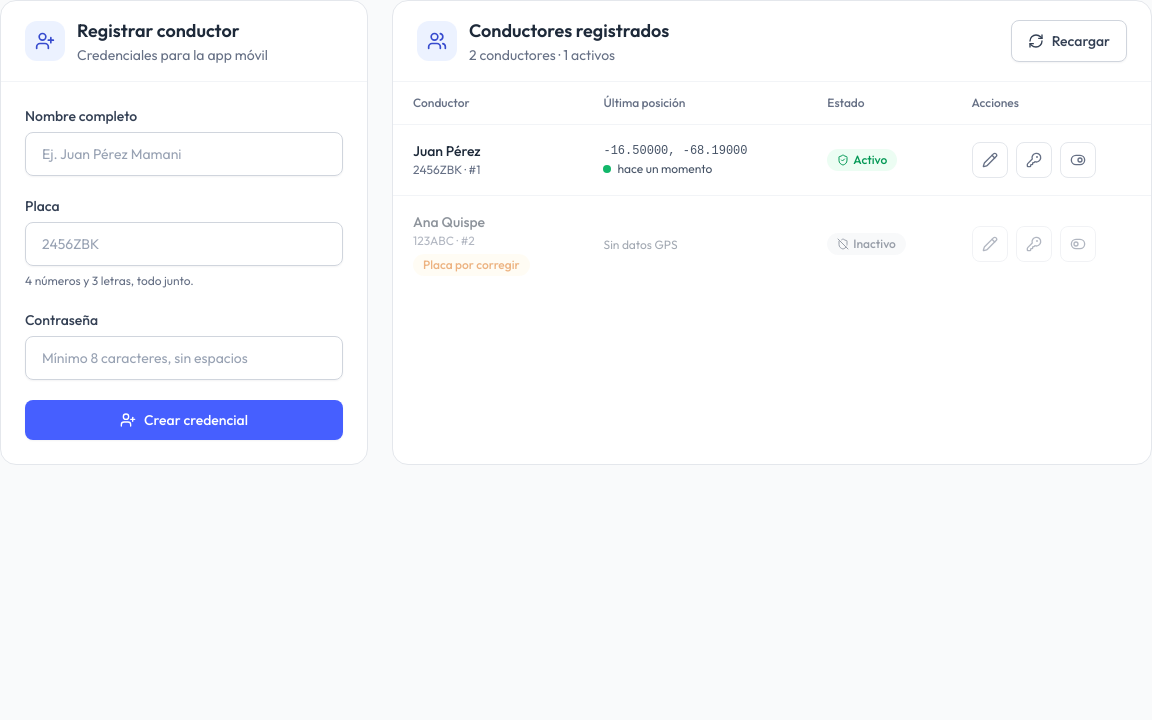
Test case: Flota › editar un conductor envía el nombre y la placa normalizada
This screenshot has width=1152, height=720.
Click the button named "Editar a Ana Quispe". click: (990, 244)
box: [972, 226, 1008, 262]
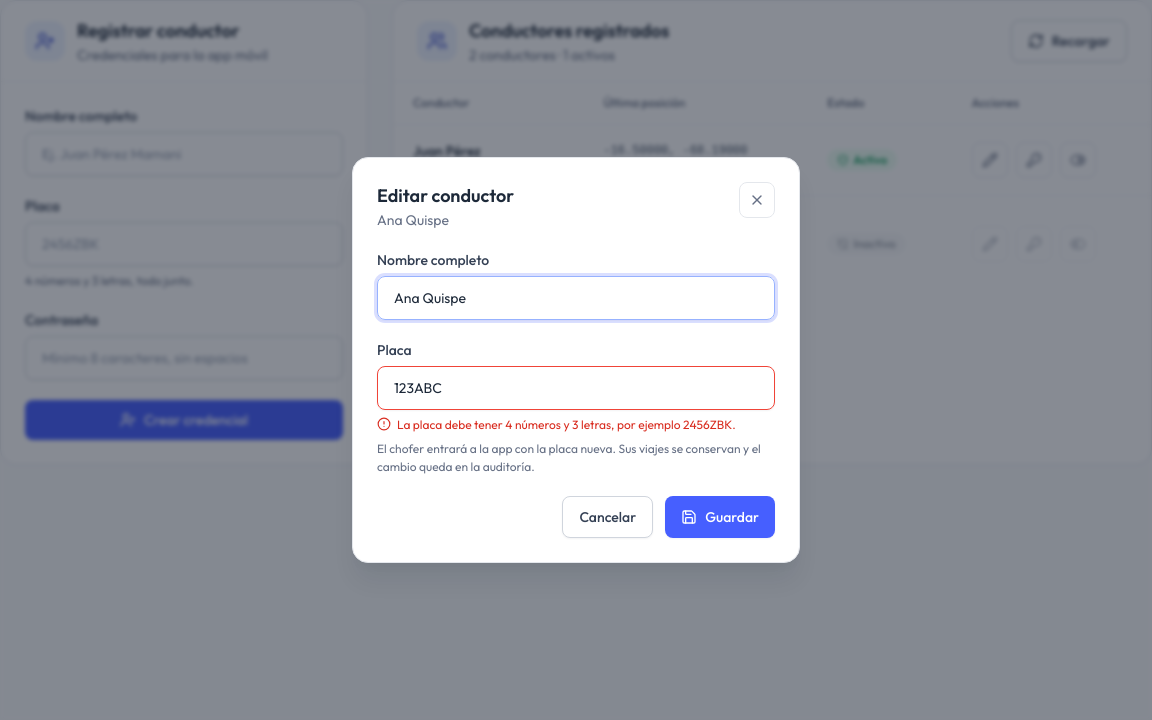
Clear the field labelled "Placa". click: (576, 388)
box: [377, 366, 775, 410]
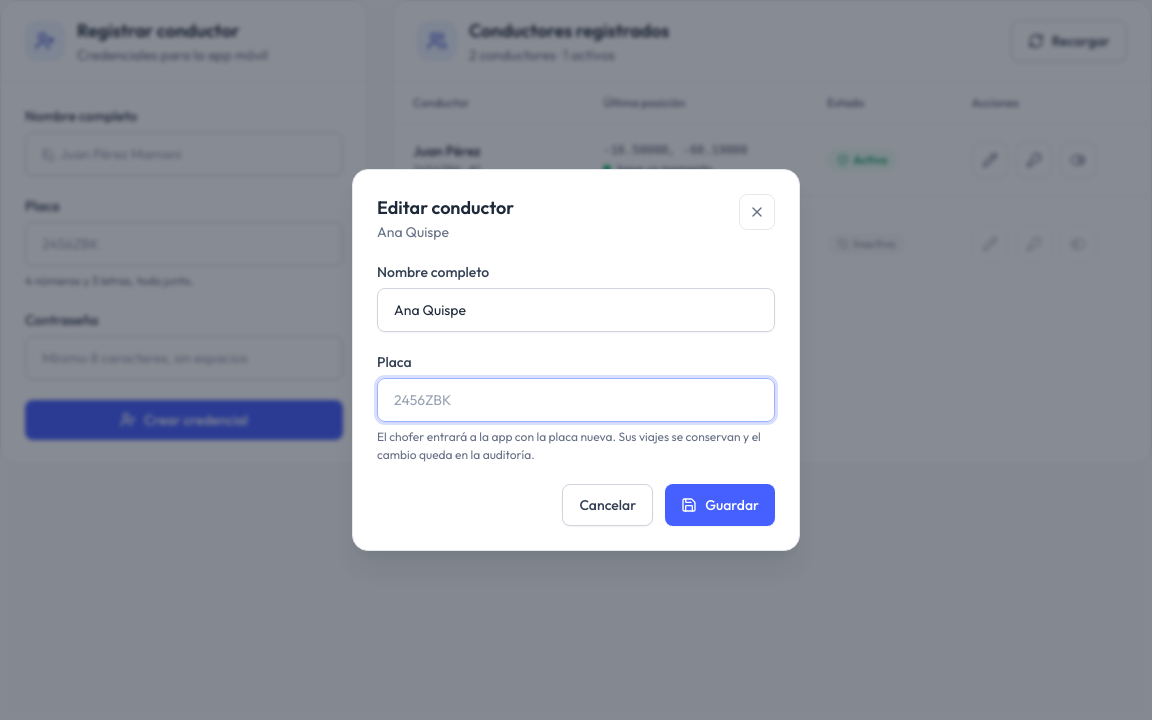
Type "1234 abc" into the field labelled "Placa". click: (576, 400)
box: [377, 378, 775, 422]
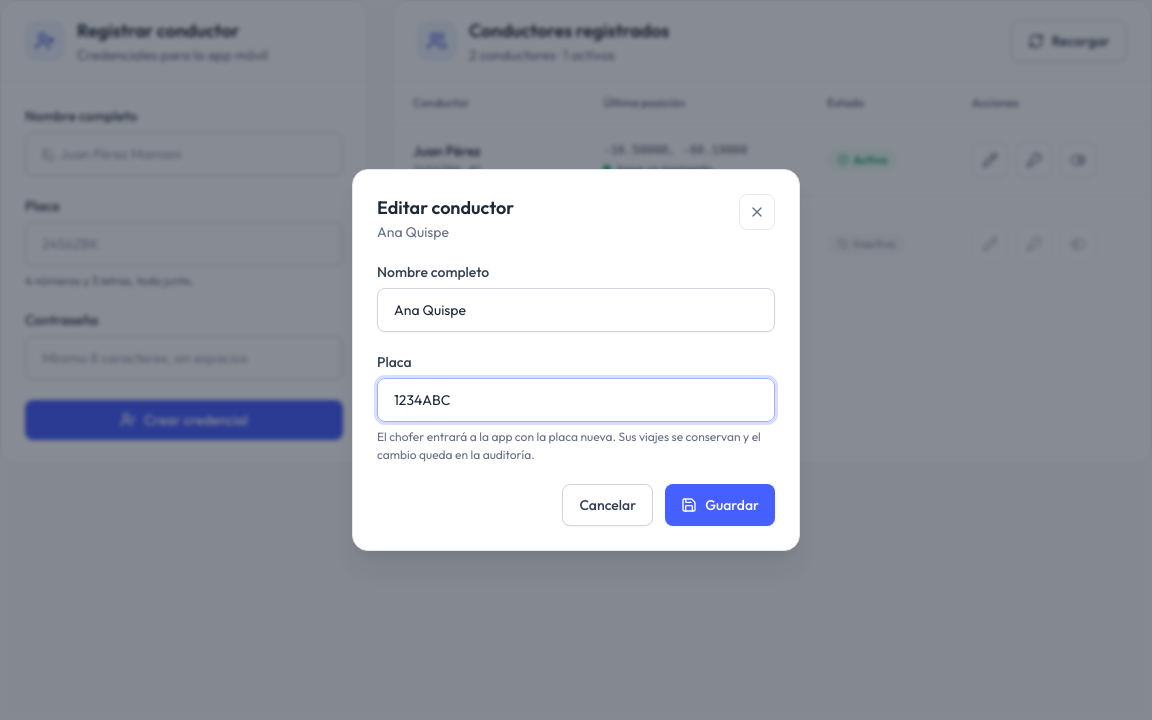
Click the button "Guardar". click: (720, 505)
box: [665, 484, 775, 526]
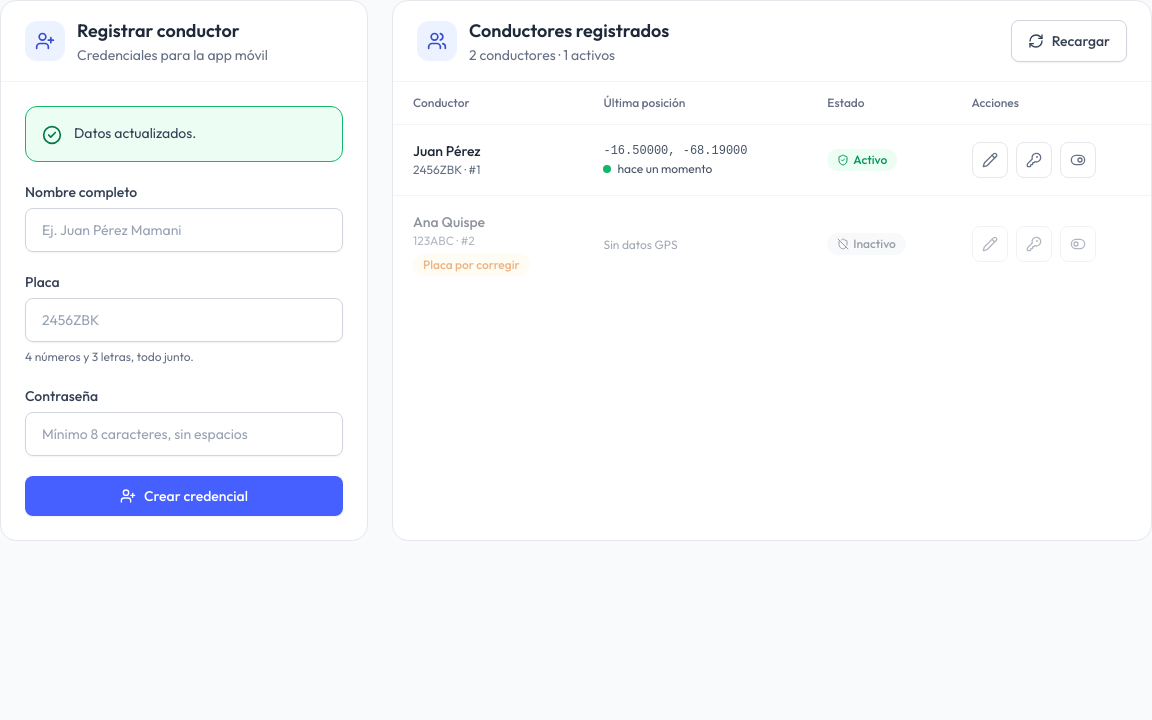
Now the dialog is gone
